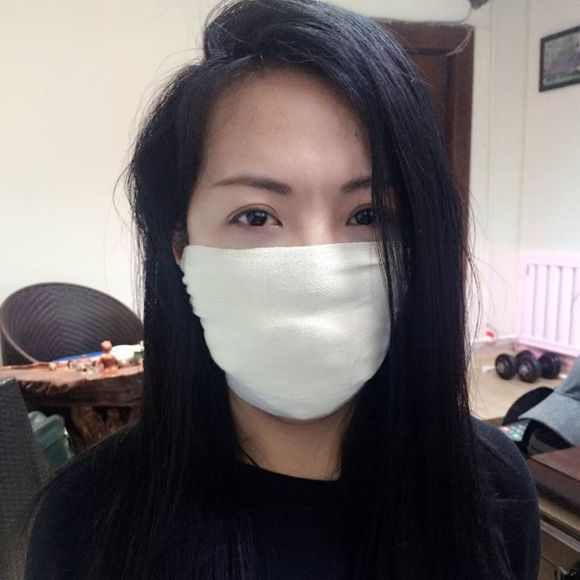face_mask: (182, 77, 400, 404)
